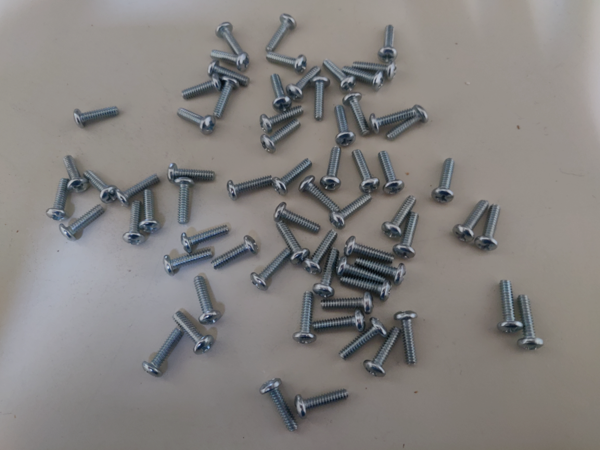shortscrew: (339, 317, 388, 361), (260, 379, 298, 433), (143, 328, 183, 378), (364, 326, 401, 378), (171, 311, 214, 355), (59, 204, 105, 242), (302, 229, 339, 275), (251, 249, 292, 290), (210, 237, 259, 271), (295, 389, 350, 419), (276, 219, 311, 266), (517, 294, 545, 352), (272, 158, 313, 197), (382, 196, 418, 240), (329, 194, 372, 230), (273, 202, 321, 234), (115, 174, 161, 207), (299, 175, 340, 212), (387, 105, 429, 141), (454, 200, 489, 243), (181, 225, 231, 255), (355, 256, 406, 285), (497, 280, 524, 334), (261, 119, 301, 155), (163, 249, 214, 277), (341, 274, 392, 302), (336, 256, 387, 284), (345, 236, 395, 264), (193, 277, 222, 325), (313, 248, 340, 298), (286, 66, 323, 102), (321, 291, 374, 316), (265, 13, 298, 53), (352, 149, 381, 194), (475, 204, 502, 251), (260, 106, 305, 134), (313, 309, 365, 333), (395, 311, 418, 365), (343, 92, 371, 136), (393, 212, 419, 259), (227, 174, 274, 200), (293, 291, 316, 344), (181, 74, 225, 101), (431, 158, 456, 204), (370, 109, 416, 134), (379, 151, 405, 195), (62, 155, 91, 194), (85, 169, 118, 203), (323, 59, 357, 92), (177, 108, 217, 136), (207, 61, 250, 87), (343, 65, 384, 92), (74, 105, 120, 129), (46, 178, 71, 222), (213, 77, 239, 118), (175, 177, 196, 225), (352, 60, 397, 82), (216, 22, 245, 56), (167, 163, 216, 183), (123, 202, 145, 246), (140, 190, 162, 233), (311, 75, 331, 122), (321, 147, 342, 191), (265, 52, 307, 73), (335, 105, 356, 147), (270, 74, 292, 114), (210, 50, 251, 71), (378, 25, 398, 62)
